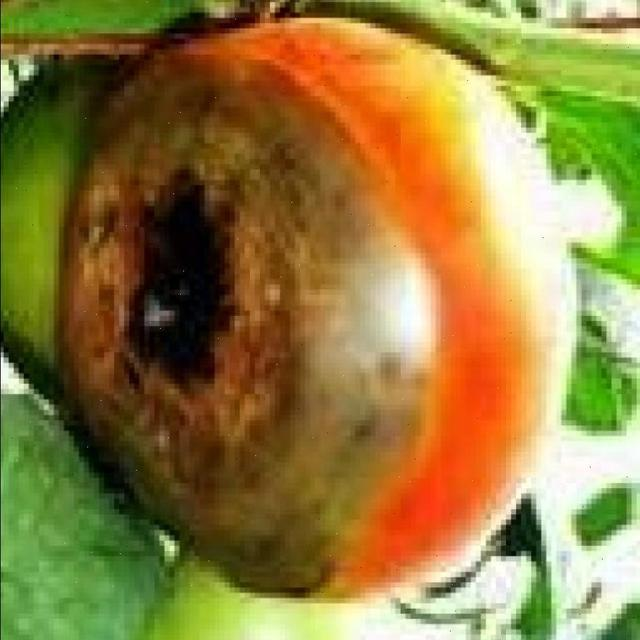Blossom End Rot Fruit: (47, 22, 295, 406)
